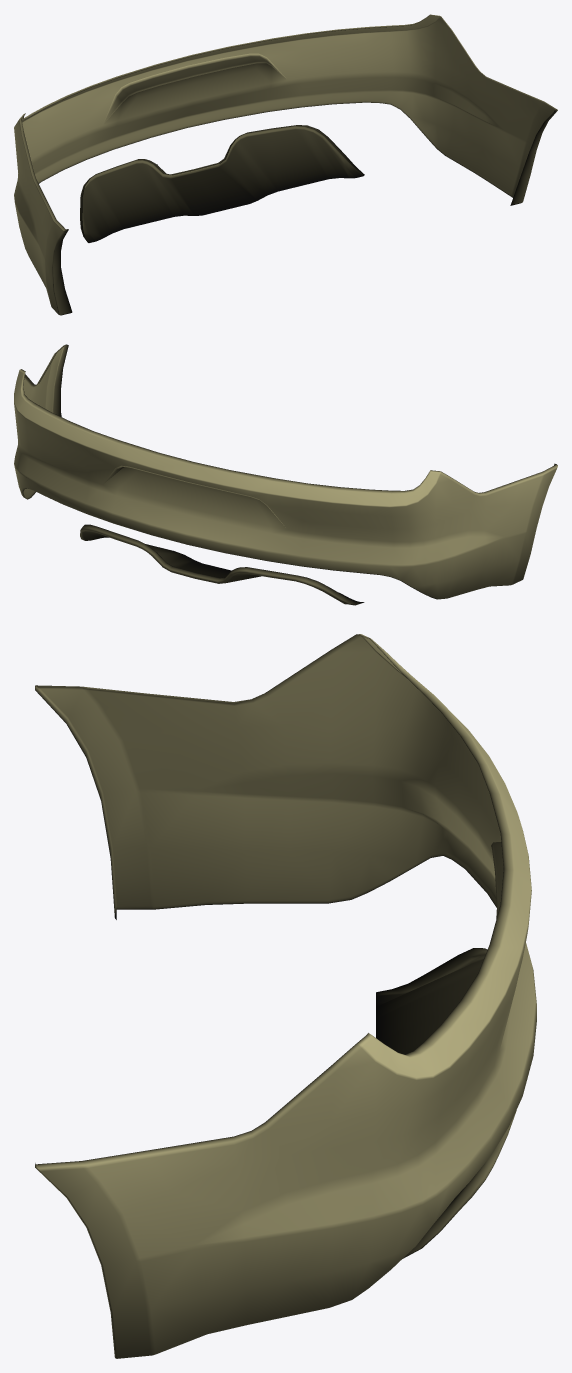
File: Mustang16_RB_01_Duco.fbx
3 views of the same model, one above another, from view 1: azimuth 30°, elevation 25°; view 2: azimuth 150°, elevation 25°; view 3: azimuth 270°, elevation 25° (orthographic). The views are drawn at different scales.
Parts seen in each view (by area): view 1: Mustang16_RB_01_Duco; view 2: Mustang16_RB_01_Duco; view 3: Mustang16_RB_01_Duco.
Part boxes in pixels (x1,y1,x2,y2): Mustang16_RB_01_Duco: (14, 14, 557, 315); Mustang16_RB_01_Duco: (14, 344, 557, 605); Mustang16_RB_01_Duco: (35, 634, 536, 1358).
Bounding box in the file's own units: 190 × 54.97 × 83.59.
